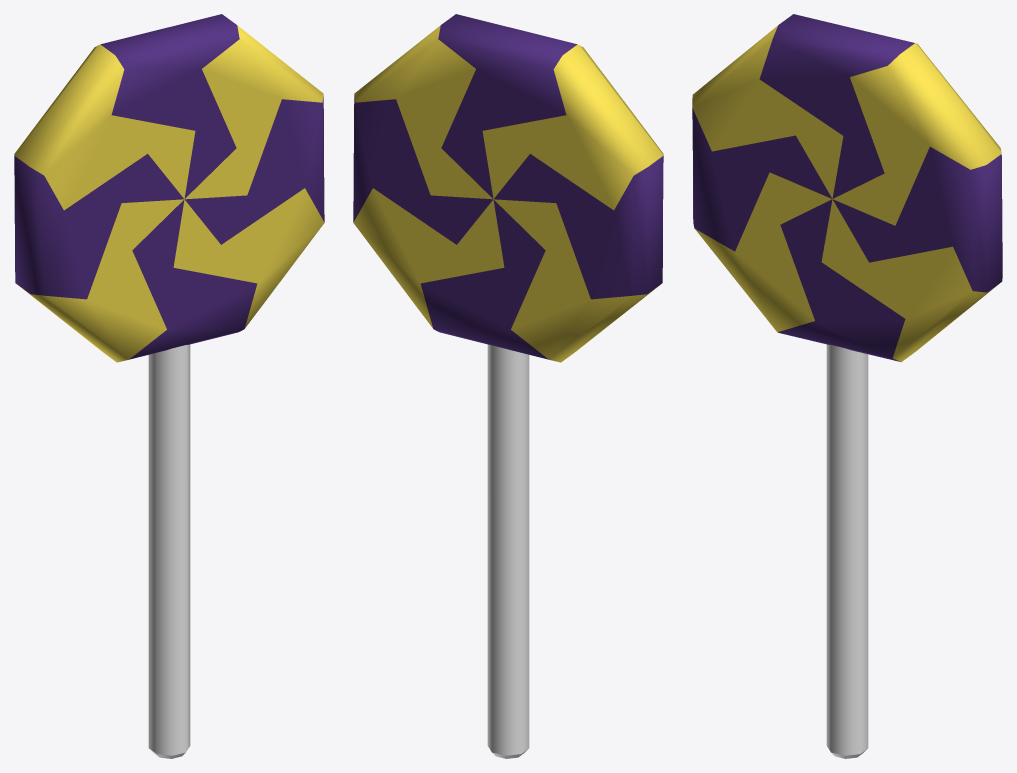
The model's file is Candy_10.fbx.
3 renders of one model, left to right at view 1: azimuth 30°, elevation 25°; view 2: azimuth 150°, elevation 25°; view 3: azimuth 330°, elevation 25°, orthographic.
Visible parts, largest first — view 1: Candy_10; view 2: Candy_10; view 3: Candy_10.
Part boxes in pixels (box(x1,y1,x2,y2)): Candy_10: box(14, 14, 324, 758); Candy_10: box(353, 14, 663, 758); Candy_10: box(692, 14, 1002, 758).
Size of the model in its own units: 1.22 by 2.85 by 0.2159.
